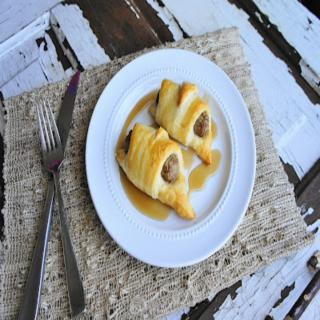Croissant: (125, 126, 206, 216), (148, 78, 210, 164)
